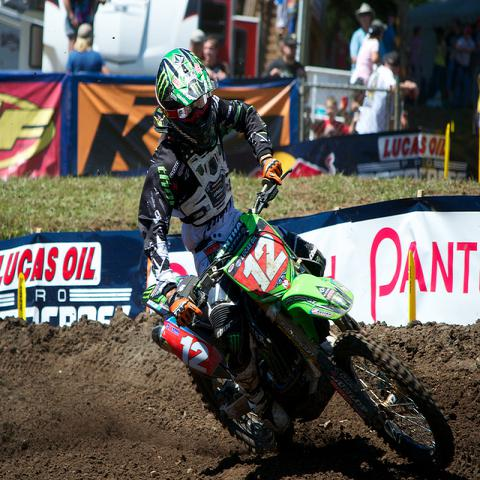motorcycle: (148, 170, 454, 471)
